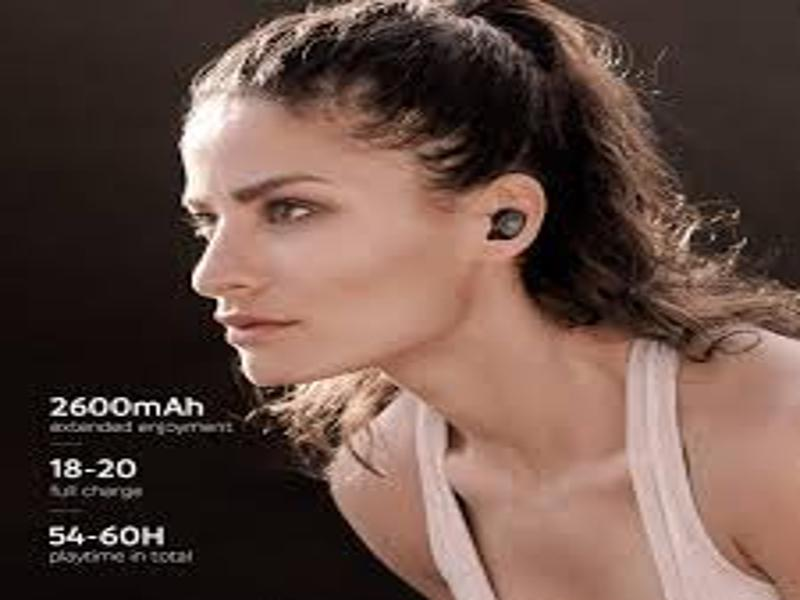headphone: (489, 208, 527, 242)
